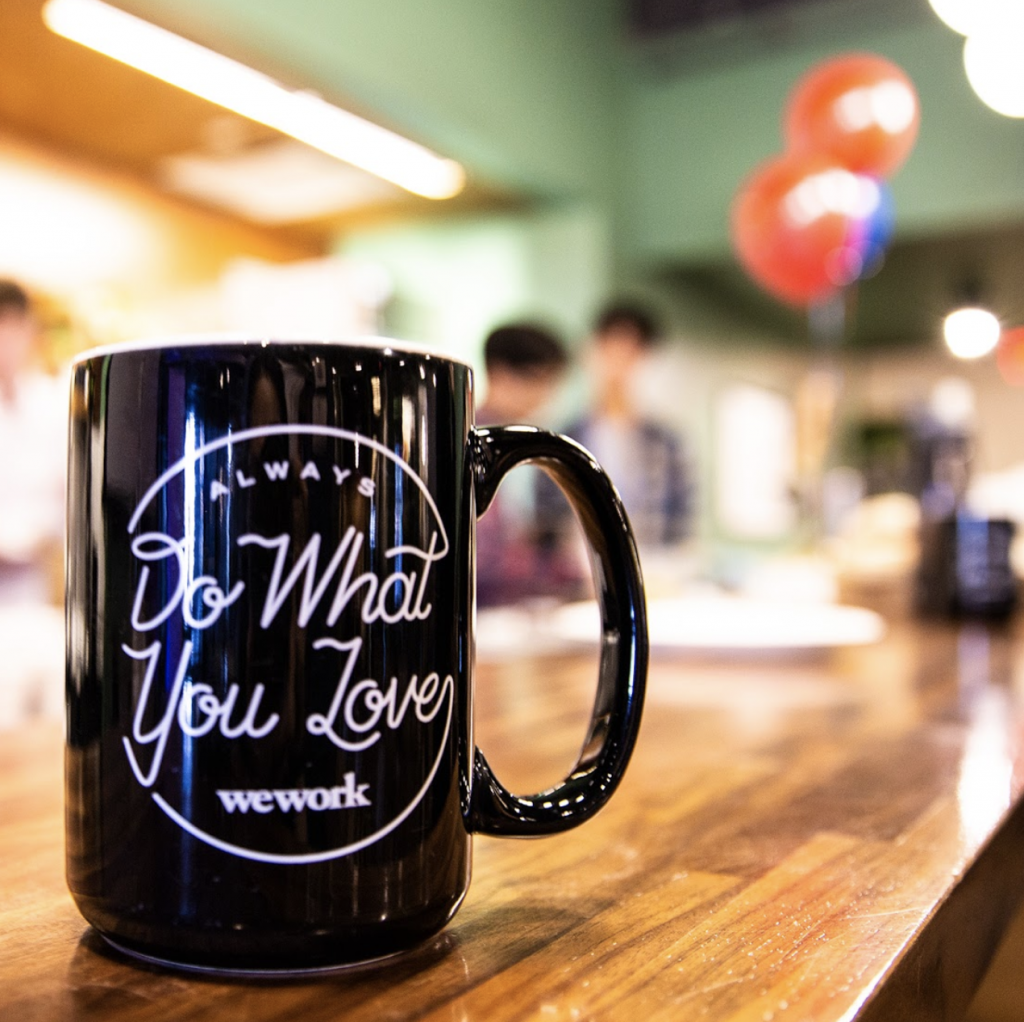wework: (210, 766, 378, 817)
